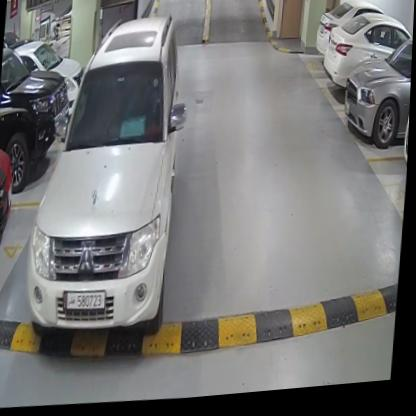np: (64, 287, 110, 314)
